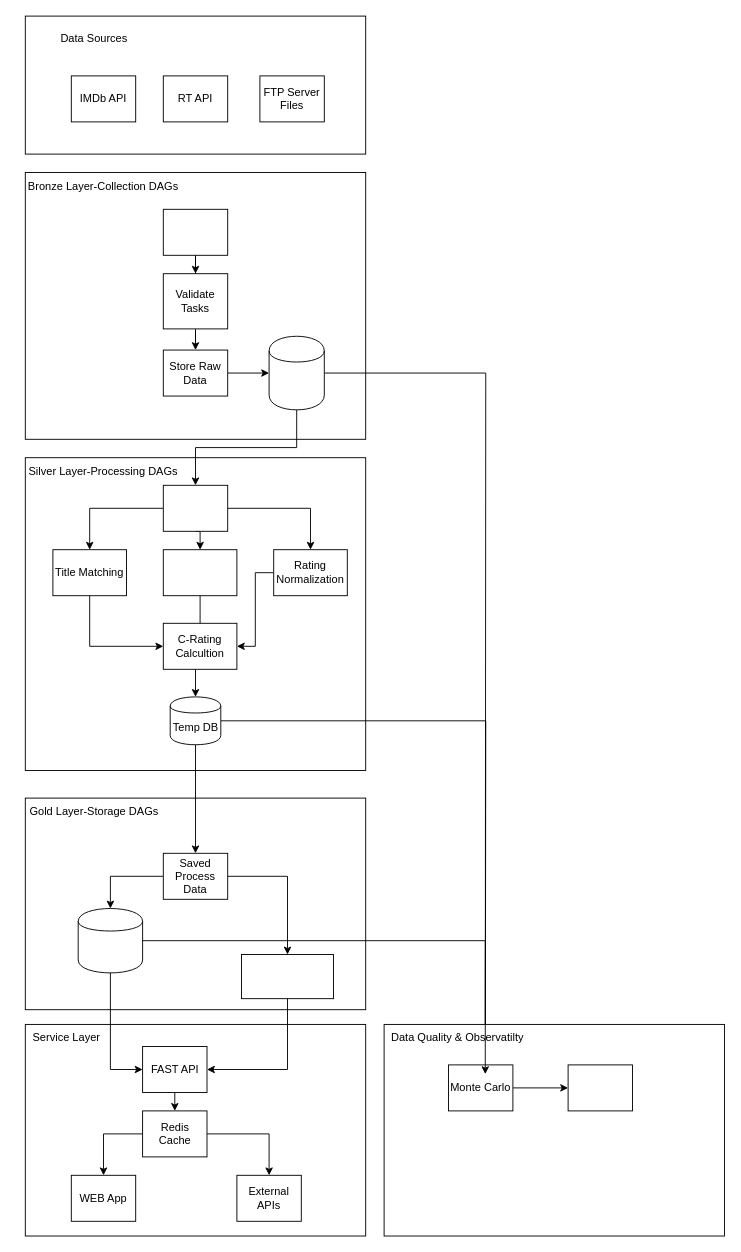
This 741x1252 diagram has some shape labels left out. The shapes that lost their labels are listed below. From the top down, each one's centre as x and y in pixels, then its label:
At (x=195, y=231): "Fetch Tasks".
At (x=296, y=372): "MongoDB".
At (x=195, y=507): "Process Raw Data".
At (x=199, y=572): "Genre Normalization".
At (x=110, y=940): "PostgreSQL".
At (x=287, y=976): "ElastichSearch".
At (x=599, y=1087): "Alerts".
